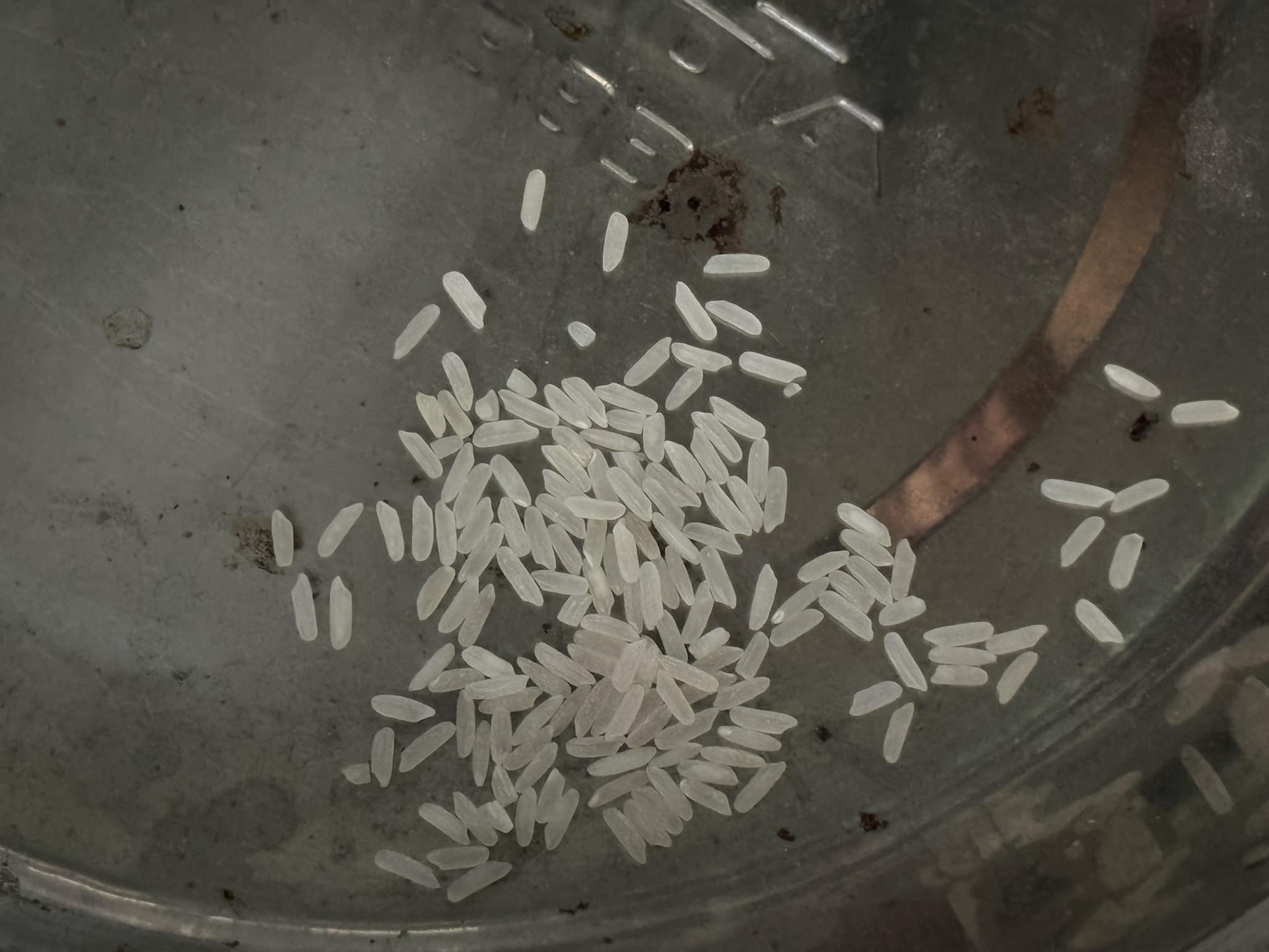Rice-th-y-nh: (374, 843, 441, 897), (653, 702, 720, 756), (445, 854, 513, 907), (397, 717, 457, 776), (494, 544, 545, 610), (588, 738, 657, 786), (644, 456, 701, 514), (457, 521, 507, 587), (587, 762, 651, 813), (570, 674, 620, 739), (817, 587, 874, 644), (498, 384, 560, 436), (772, 572, 830, 627), (534, 638, 595, 690), (701, 479, 753, 539), (449, 461, 494, 530), (456, 583, 502, 649), (881, 631, 929, 694), (734, 759, 787, 816), (708, 392, 766, 444), (315, 500, 366, 559), (658, 648, 717, 699), (696, 544, 741, 610), (836, 497, 892, 550), (691, 408, 744, 464), (472, 412, 539, 456), (645, 763, 694, 823), (683, 514, 744, 562), (441, 268, 488, 330), (677, 580, 721, 646), (606, 465, 655, 524), (519, 505, 562, 572), (601, 807, 649, 867), (535, 488, 588, 542), (512, 691, 563, 747), (560, 373, 611, 429), (582, 450, 624, 518), (546, 682, 592, 744), (652, 509, 701, 567), (392, 302, 441, 360), (540, 788, 584, 852), (623, 335, 674, 390), (630, 561, 670, 631), (673, 280, 718, 342), (602, 683, 648, 743), (451, 790, 498, 848), (744, 564, 784, 632), (703, 245, 771, 285), (492, 496, 534, 560), (562, 487, 626, 529), (662, 437, 708, 495), (412, 563, 457, 622), (757, 466, 796, 534), (844, 553, 894, 606), (516, 652, 570, 701), (427, 837, 490, 879), (687, 427, 731, 487), (488, 452, 534, 509), (1058, 515, 1107, 568), (543, 442, 592, 495), (632, 786, 685, 835), (437, 442, 478, 505), (455, 496, 497, 557), (419, 798, 470, 848), (408, 641, 456, 694), (480, 681, 542, 722), (397, 427, 444, 481), (608, 636, 651, 695), (660, 544, 700, 607), (1040, 477, 1114, 511), (447, 690, 484, 758), (362, 726, 403, 787), (622, 798, 672, 848), (503, 725, 553, 775), (1073, 598, 1125, 646), (995, 650, 1041, 704), (725, 474, 767, 533), (515, 740, 560, 795), (427, 501, 465, 566), (542, 383, 592, 432), (565, 726, 626, 766), (642, 475, 686, 530), (371, 500, 410, 562), (608, 521, 647, 583), (738, 350, 805, 386), (404, 495, 440, 562), (438, 578, 481, 634), (439, 351, 478, 412), (463, 721, 499, 787), (653, 671, 696, 726), (926, 640, 995, 674), (597, 210, 634, 273), (728, 704, 798, 737), (1103, 363, 1162, 402), (545, 522, 586, 578), (264, 509, 302, 568), (923, 619, 995, 650), (540, 468, 593, 510), (531, 767, 570, 824), (706, 298, 763, 337), (652, 608, 691, 665), (507, 787, 544, 847), (741, 437, 775, 502), (828, 569, 876, 615), (596, 381, 659, 416), (770, 608, 825, 648), (326, 576, 356, 649), (532, 563, 588, 602), (579, 562, 618, 618), (1111, 477, 1170, 514), (595, 534, 630, 596), (848, 678, 902, 718), (625, 703, 670, 751), (679, 777, 733, 817), (713, 675, 771, 712), (839, 529, 894, 568), (370, 691, 435, 724), (580, 610, 641, 645), (881, 703, 916, 764), (987, 623, 1048, 658), (289, 572, 319, 642), (623, 513, 664, 564), (1108, 533, 1144, 591), (460, 674, 532, 703), (435, 388, 475, 440), (461, 644, 516, 681), (567, 640, 619, 679), (717, 723, 782, 754), (678, 757, 740, 789), (701, 741, 764, 772), (663, 366, 705, 412), (631, 635, 668, 687), (484, 708, 518, 764), (580, 425, 641, 456), (671, 342, 730, 374), (887, 541, 919, 600), (412, 391, 450, 440), (797, 549, 851, 583), (428, 664, 485, 696), (637, 412, 672, 464), (550, 425, 594, 466), (519, 169, 548, 231), (736, 631, 771, 680), (878, 594, 927, 628), (648, 740, 700, 772), (616, 582, 648, 634), (579, 518, 612, 568), (698, 639, 744, 673), (611, 449, 648, 491), (686, 626, 730, 660), (556, 591, 594, 629), (490, 764, 519, 805), (482, 798, 515, 833), (607, 407, 647, 435), (472, 388, 504, 423), (506, 368, 538, 399), (430, 432, 465, 460), (341, 761, 372, 786), (783, 381, 802, 398)
